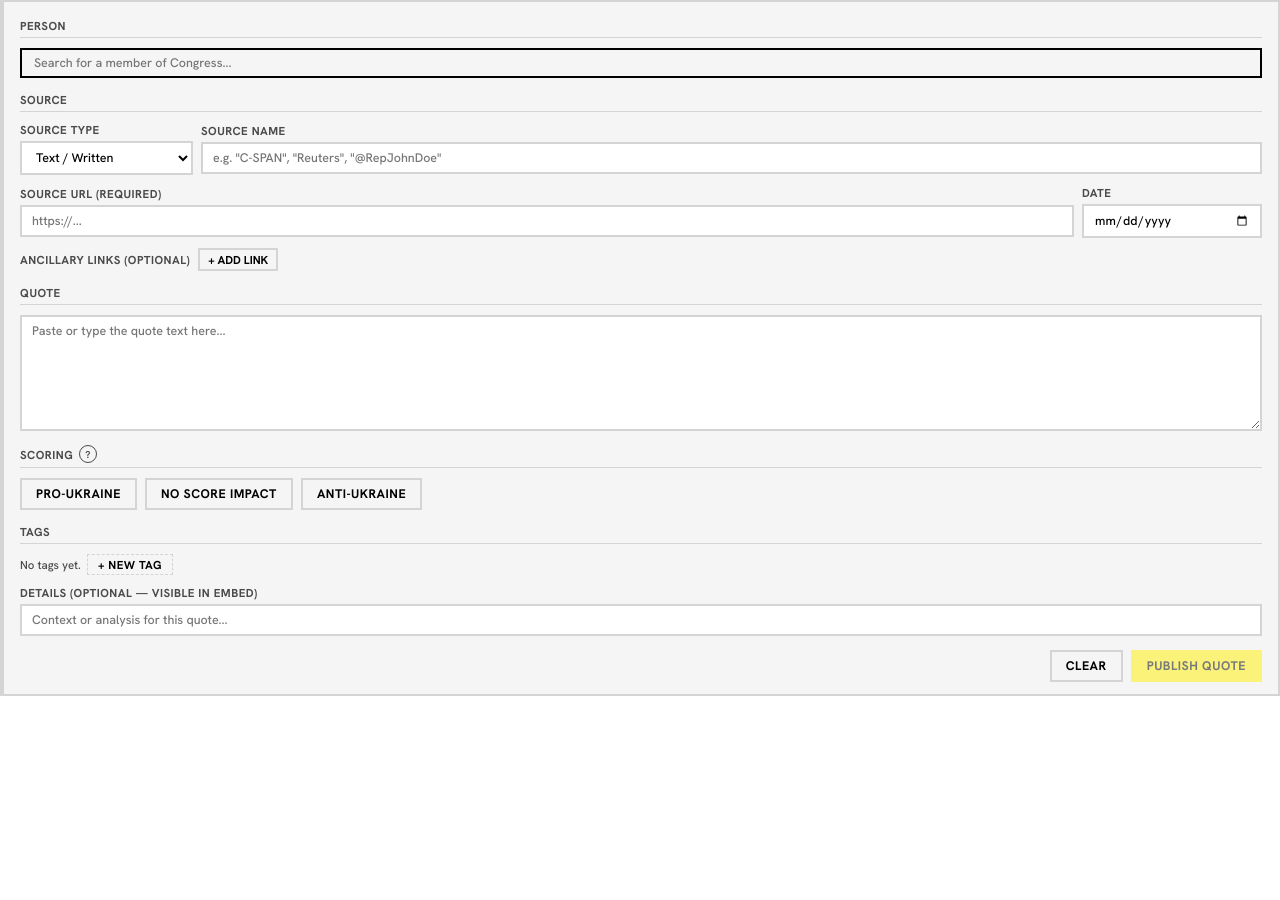
AddQuoteView — scoring state machine › Save label reflects current intent + weight
Expected: the text "Scoring ?" is shown, [20,445,1262,468]
Click the button "No score impact": (219, 494) [145,478,293,510]
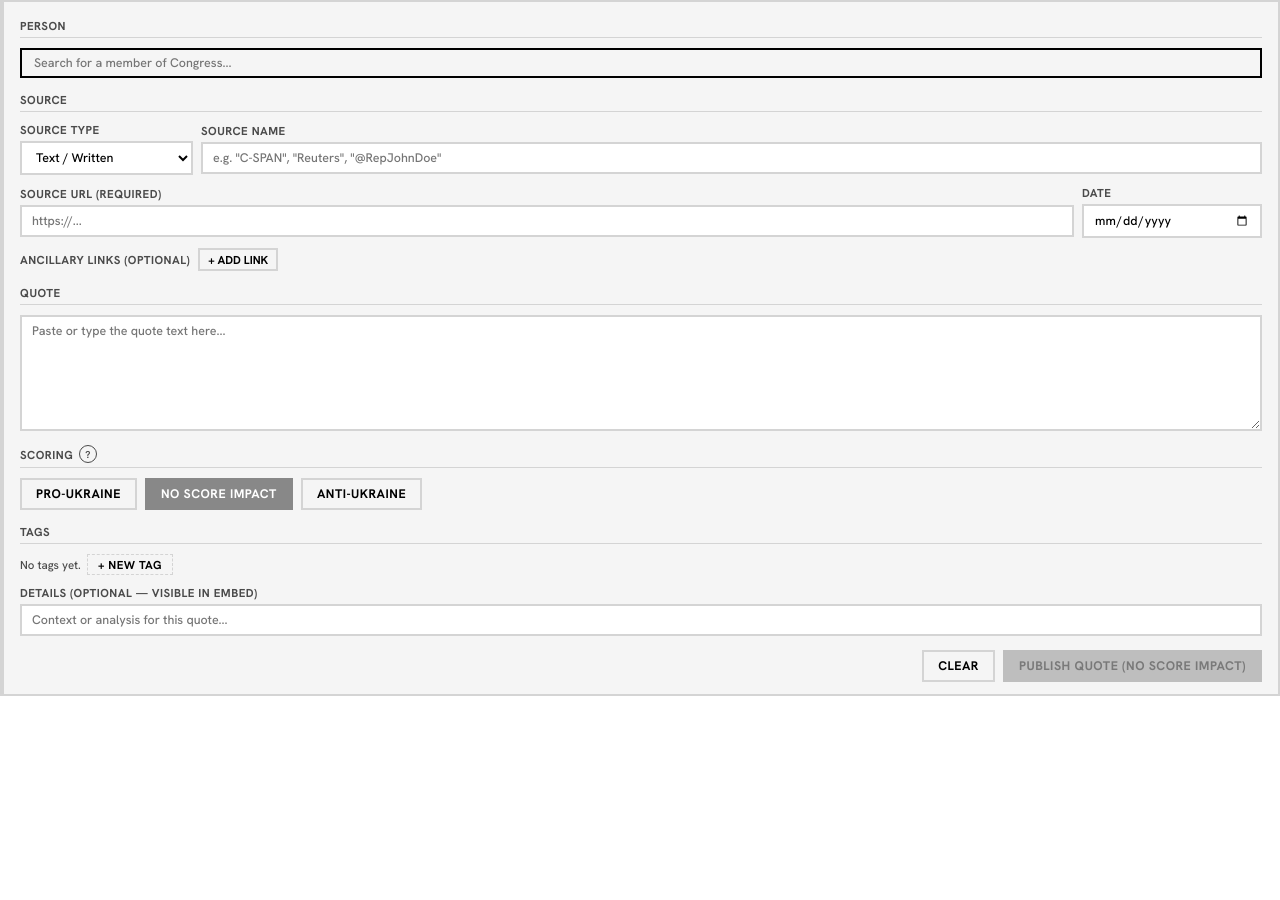
Now the button "Publish quote (no score impact)" is shown, box [1003,650,1262,682]
Click the button "Pro-Ukraine": (78, 494) [20,478,137,510]
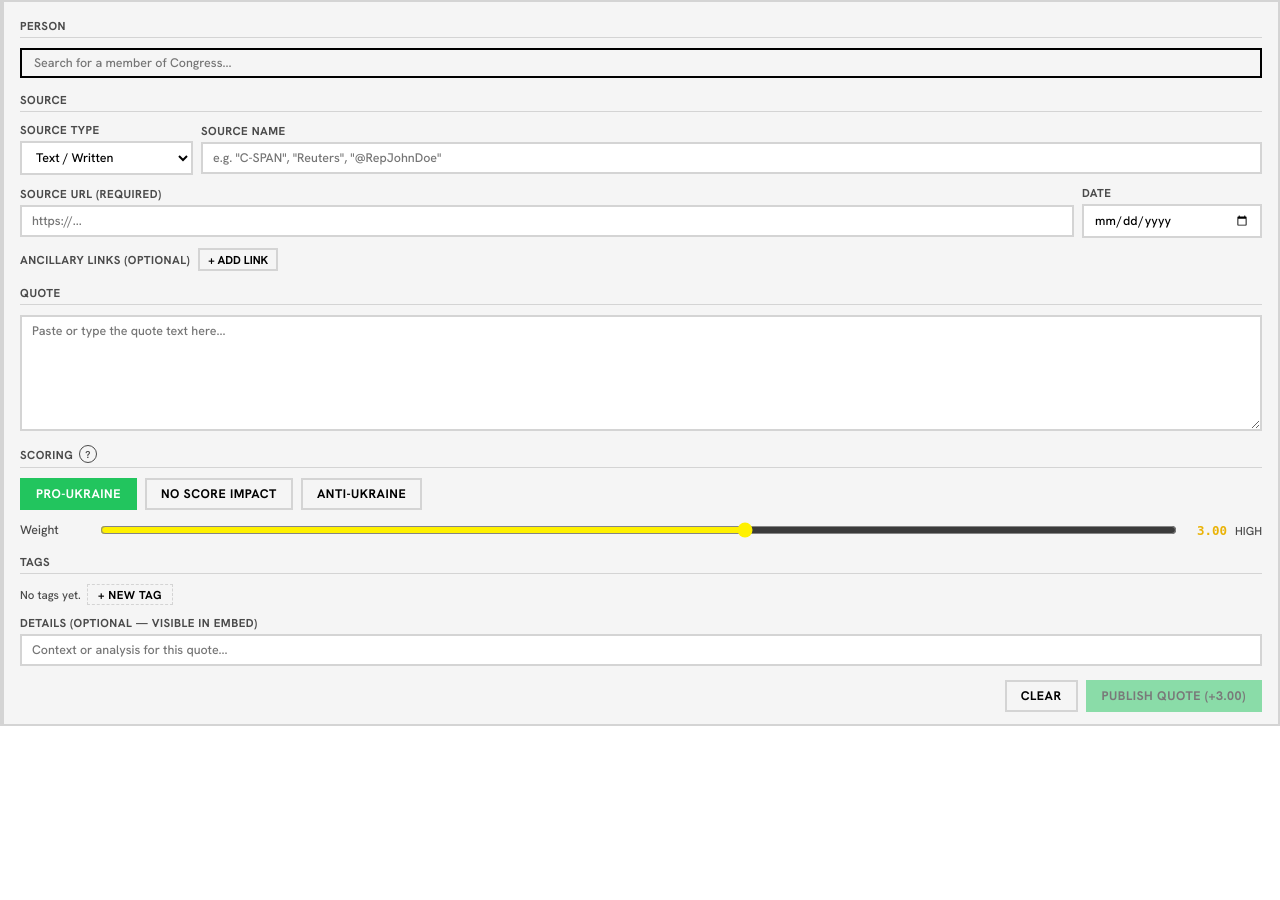
Now the button "Publish quote (+3.00)" is shown, box [1086,680,1262,712]
Set the slider to "4.5": (1063, 530) [100,522,1177,538]
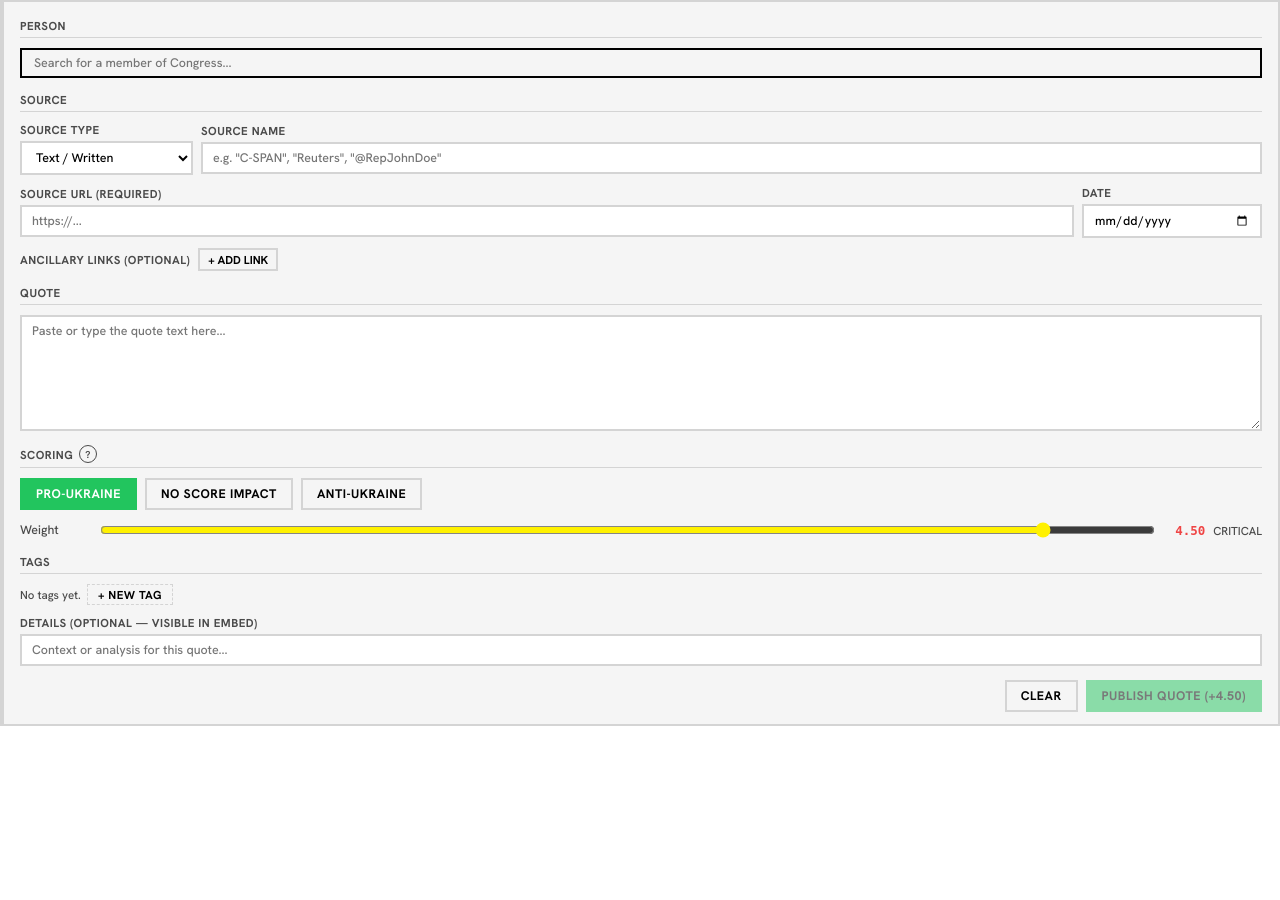
Now the button "Publish quote (+4.50)" is shown, box [1086,680,1262,712]
Click the button "Anti-Ukraine": (362, 494) [301,478,422,510]
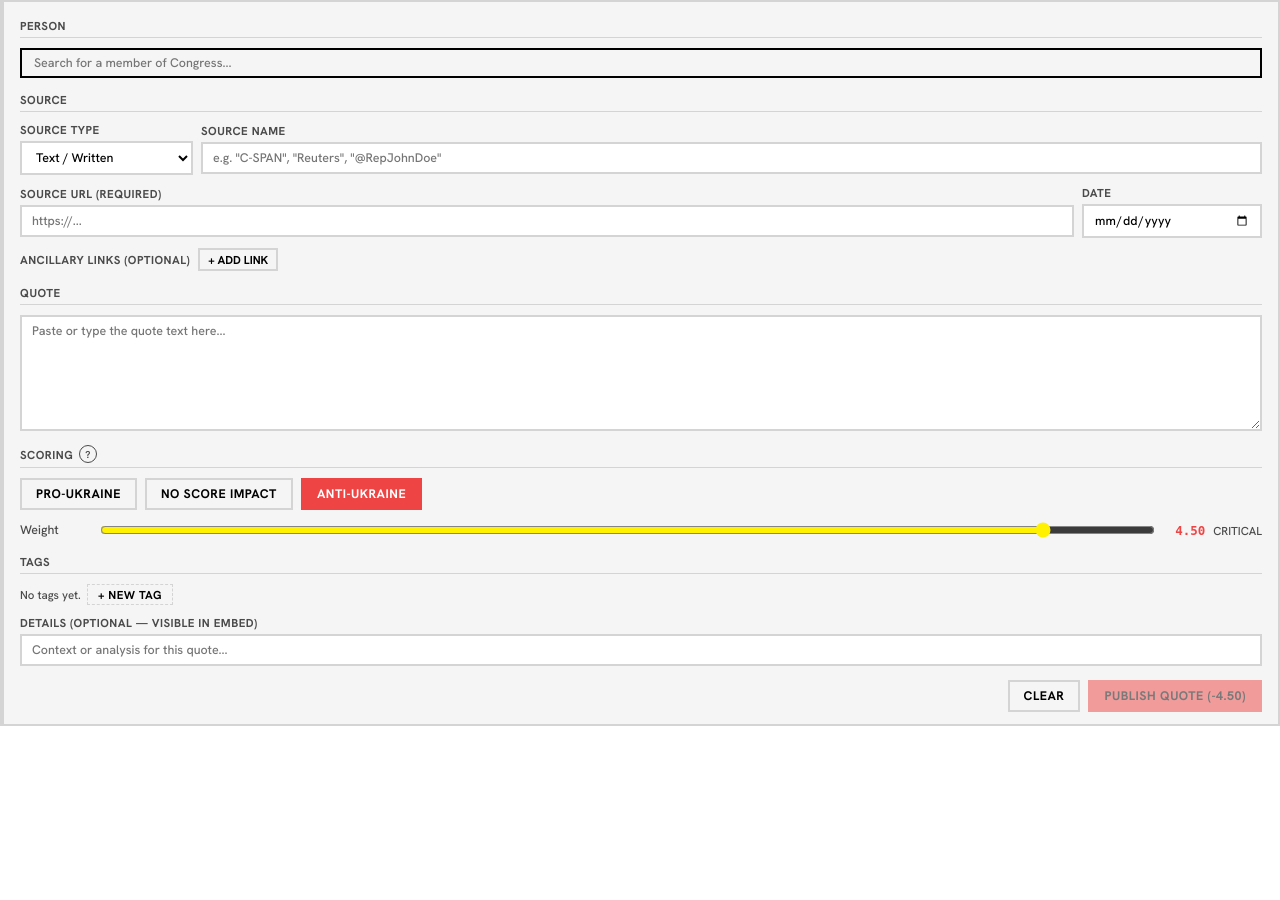
Now the button "Publish quote (-4.50)" is shown, box [1088,680,1262,712]
